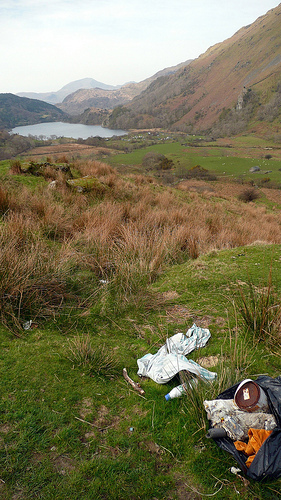litter: (204, 378, 281, 477), (137, 324, 216, 378), (165, 380, 198, 400)
